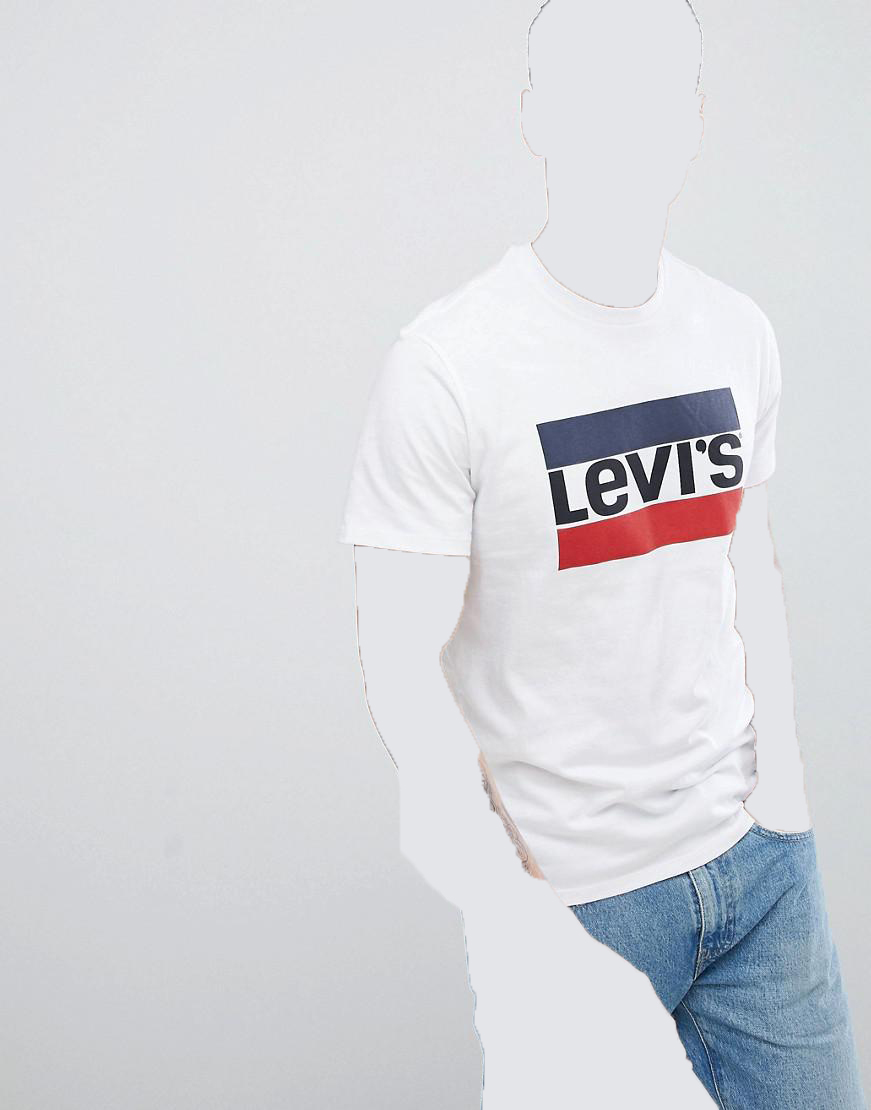teeshirt: (325, 240, 844, 912)
